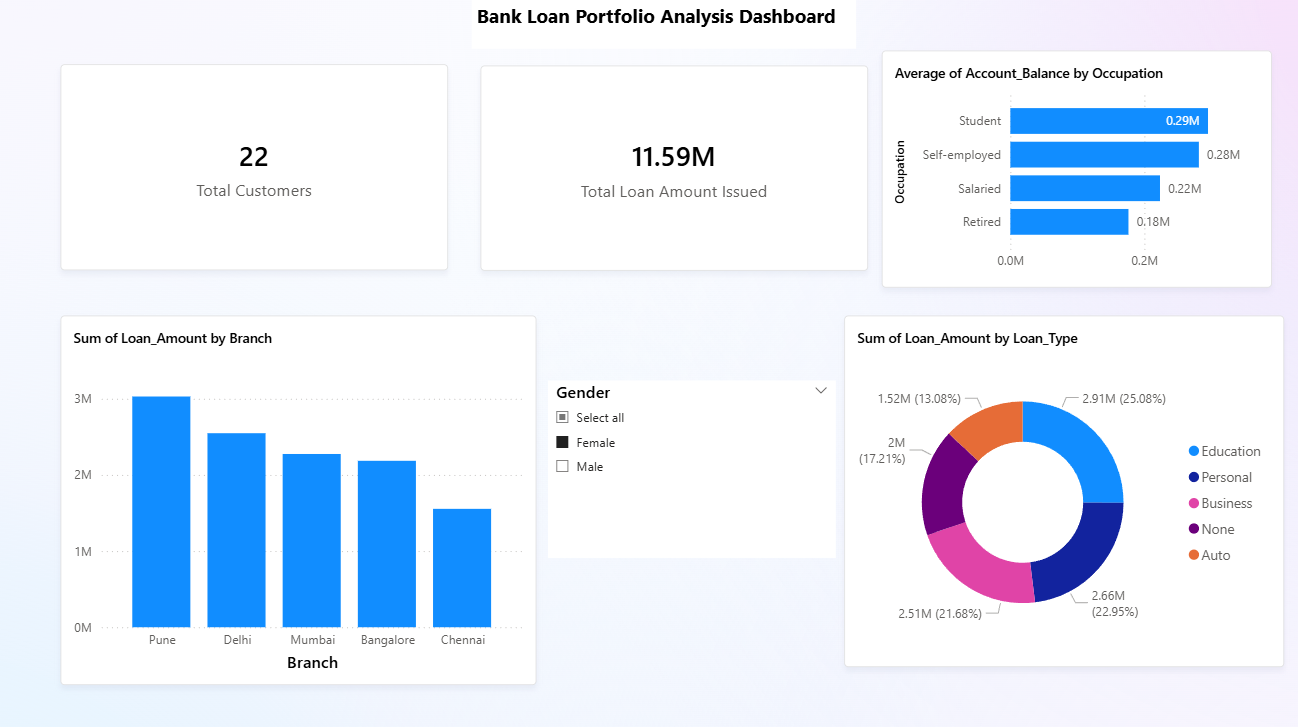

The dashboard page shown, as its layout file describes it:
{"tool":"powerbi","page":{"name":"Page 1","canvas":[1280,720],"ordinal":0},"visuals":[{"type":"clusteredColumnChart","fields":{"Category":["Sheet1.Branch"],"Y":["Sum(Sheet1.Loan_Amount)"]},"box":[61.1,310.6,465.9,362],"z":0},{"type":"donutChart","fields":{"Category":["Sheet1.Loan_Type"],"Y":["Sum(Sheet1.Loan_Amount)"]},"box":[827.9,310.6,430.4,343.6],"z":1000},{"type":"clusteredBarChart","fields":{"Category":["Sheet1.Occupation"],"Y":["Avg(Sheet1.Account_Balance)"]},"box":[864.5,50.8,381.5,231.9],"z":2001},{"type":"card","fields":{"Values":["Sum(Sheet1.Loan_Amount)"]},"box":[472,66,379.1,200.5],"z":2002},{"type":"textbox","box":[463.8,0,376,49.4],"z":2004},{"type":"card","fields":{"Values":["Count(Sheet1.Customer_ID)"]},"box":[61.1,64.8,379.1,201.8],"z":2005},{"type":"slicer","fields":{"Values":["Sheet1.Gender"]},"box":[538,374.2,281.3,173.6],"z":2006}]}

Visuals, with their boxes in screenshot pixels (x1, y1, x2, y2), scaled from the page's 1280x720 canvas onto the 1298x727 screenshot:
clusteredColumnChart - Sheet1.Branch x Sum(Sheet1.Loan_Amount): [62,314,534,679]
donutChart - Sheet1.Loan_Type x Sum(Sheet1.Loan_Amount): [840,314,1276,661]
clusteredBarChart - Sheet1.Occupation x Avg(Sheet1.Account_Balance): [877,51,1264,285]
card - Sum(Sheet1.Loan_Amount): [479,67,863,269]
textbox: [470,0,852,50]
card - Count(Sheet1.Customer_ID): [62,65,446,269]
slicer - Sheet1.Gender: [546,378,831,553]
